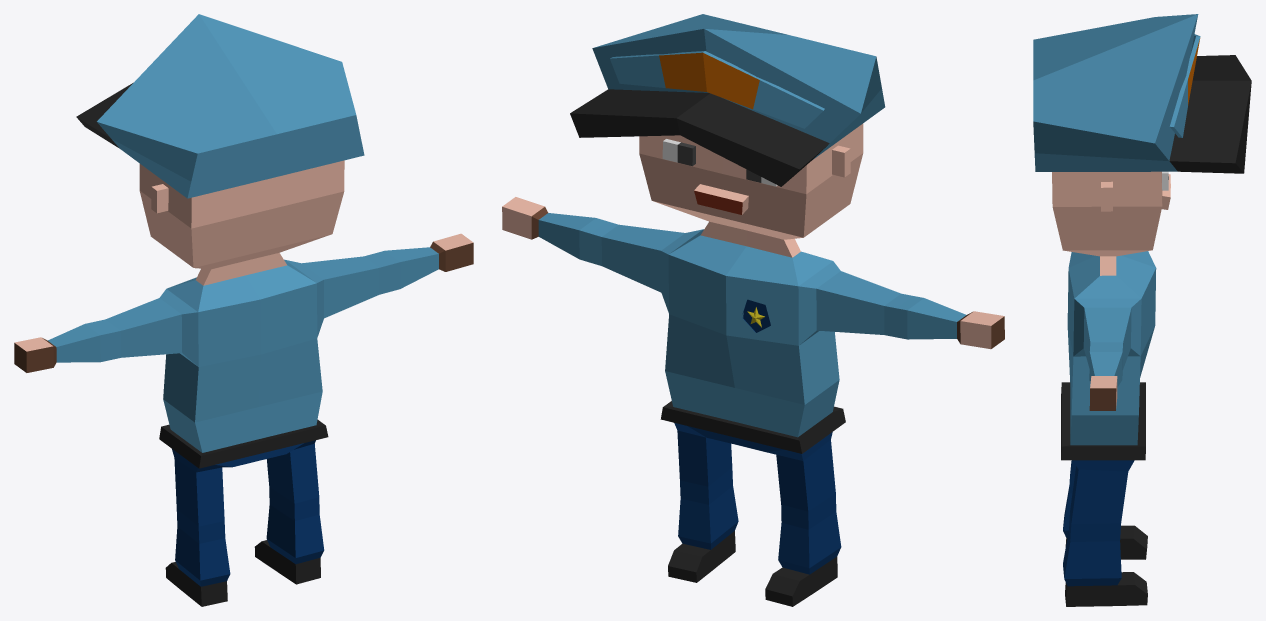
Rendered from PoliceModel.fbx.
3 views of the same model, side by side, from view 1: azimuth 30°, elevation 25°; view 2: azimuth 150°, elevation 25°; view 3: azimuth 270°, elevation 25° (orthographic). The views are drawn at different scales.
Parts seen in each view (by area): view 1: Police model, Police hat; view 2: Police model, Police hat; view 3: Police model, Police hat.
Boxes of the visible parts, left/top/right/bottom form: Police model: left=14, top=160, right=473, bottom=606; Police hat: left=76, top=14, right=364, bottom=198; Police model: left=502, top=123, right=1004, bottom=606; Police hat: left=570, top=14, right=885, bottom=186; Police model: left=1052, top=171, right=1170, bottom=606; Police hat: left=1033, top=14, right=1251, bottom=173.
Bounding box in the file's own units: 58.85 × 67 × 23.6.
